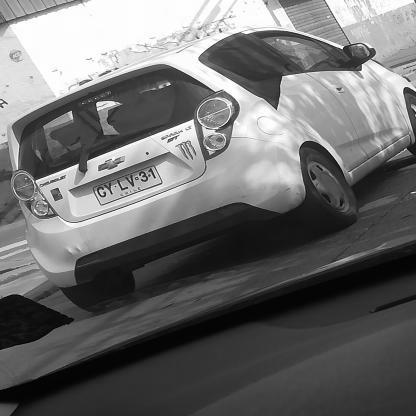Patente: (89, 165, 165, 209)
